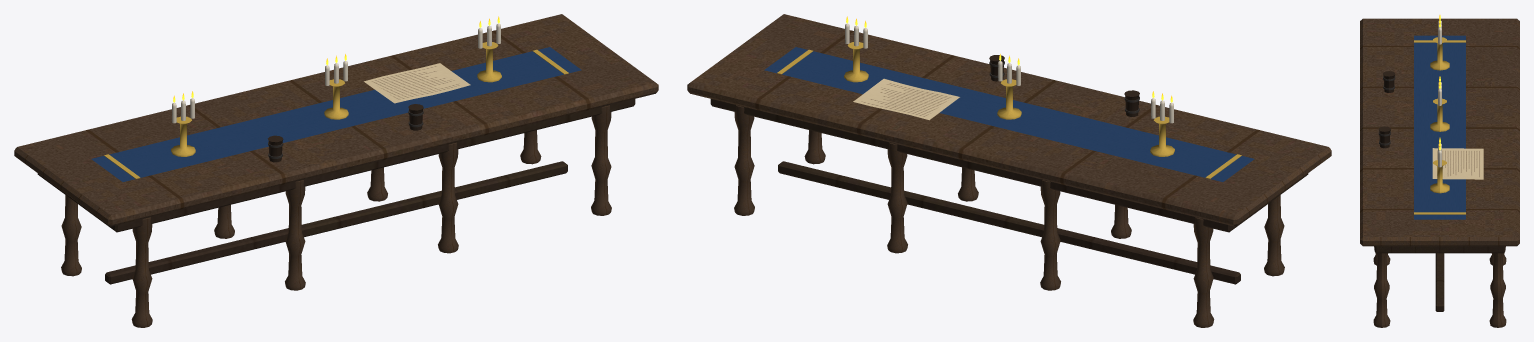
The model's file is meeting_table.glb.
The picture shows the model from 3 angles, left to right: view 1: azimuth 30°, elevation 25°; view 2: azimuth 150°, elevation 25°; view 3: azimuth 270°, elevation 25°; orthographic projection. The views are drawn at different scales.
Parts seen in each view (by area): view 1: meeting_table; view 2: meeting_table; view 3: meeting_table.
Part boxes in pixels (x1,y1,x2,y2): meeting_table: (14,14,658,327); meeting_table: (687,14,1331,327); meeting_table: (1360,15,1519,327).
Size of the model in its own units: 3.6 by 1.16 by 1.1.
Materials: 1 (1 with a texture image).
